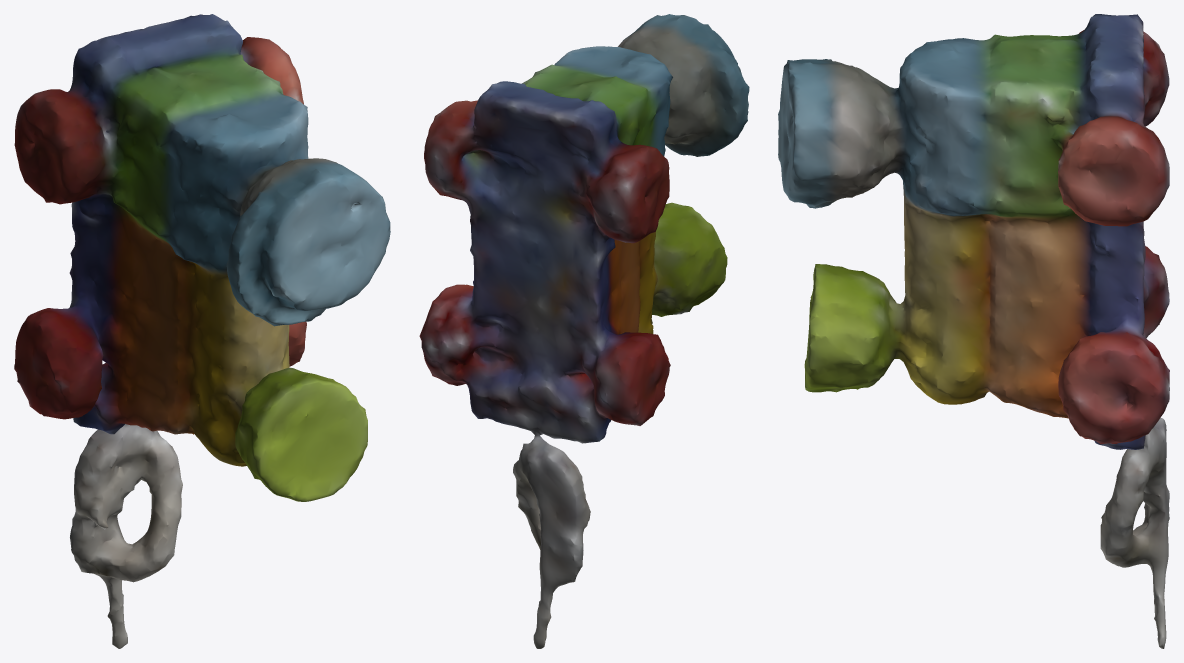
Rendered from train.glb.
The picture shows the model from 3 angles, left to right: view 1: azimuth 30°, elevation 25°; view 2: azimuth 150°, elevation 25°; view 3: azimuth 270°, elevation 25°; orthographic projection. The views are drawn at different scales.
Size of the model in its own units: 0.4222 by 0.9959 by 0.5725.
